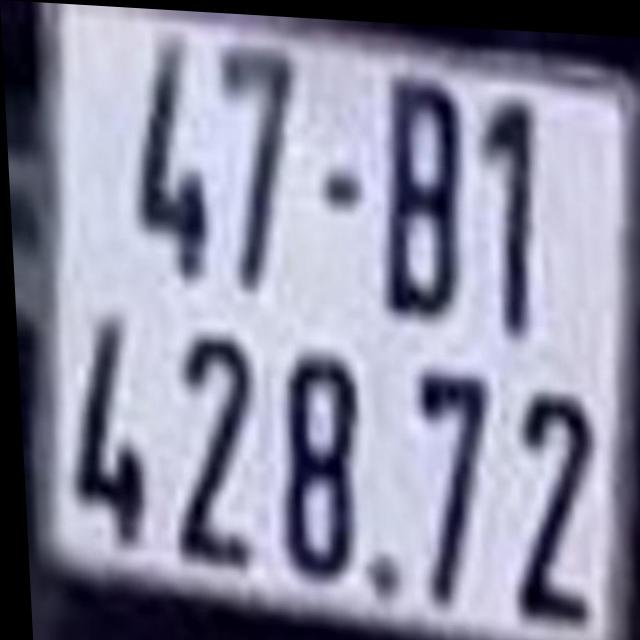1: (476, 88, 544, 337)
2: (162, 322, 255, 571), (502, 377, 591, 618)
4: (128, 24, 216, 283), (58, 302, 146, 549)
7: (399, 350, 498, 615), (214, 31, 306, 298)
8: (272, 341, 356, 584)
B: (377, 62, 464, 318)
